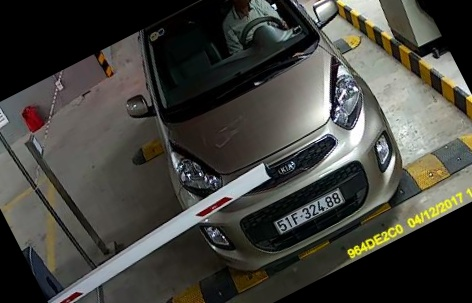plate: (273, 184, 347, 241)
